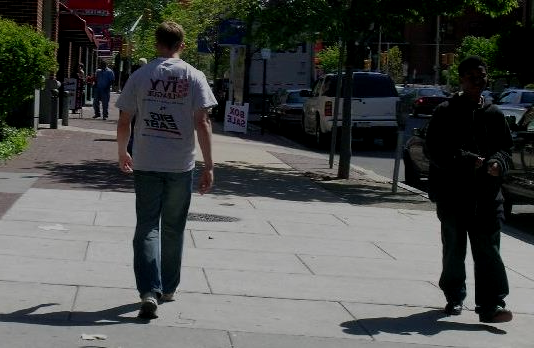pedestrian: (114, 21, 217, 319), (423, 57, 514, 323), (93, 61, 114, 119)
